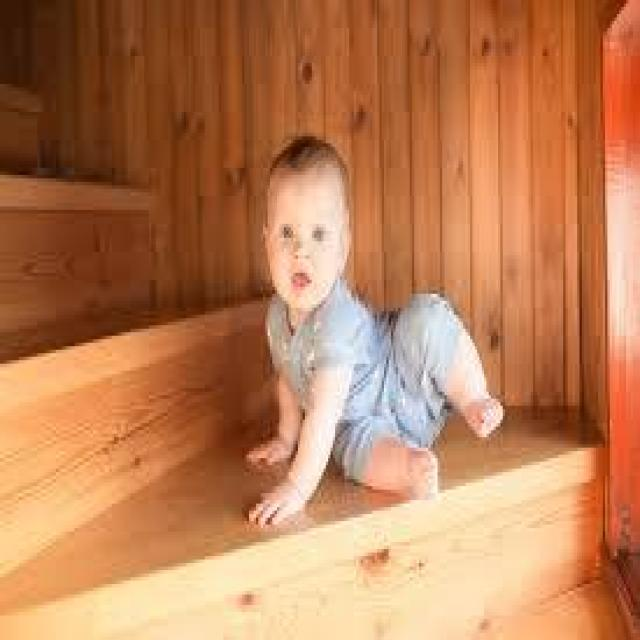child: (235, 130, 512, 538)
